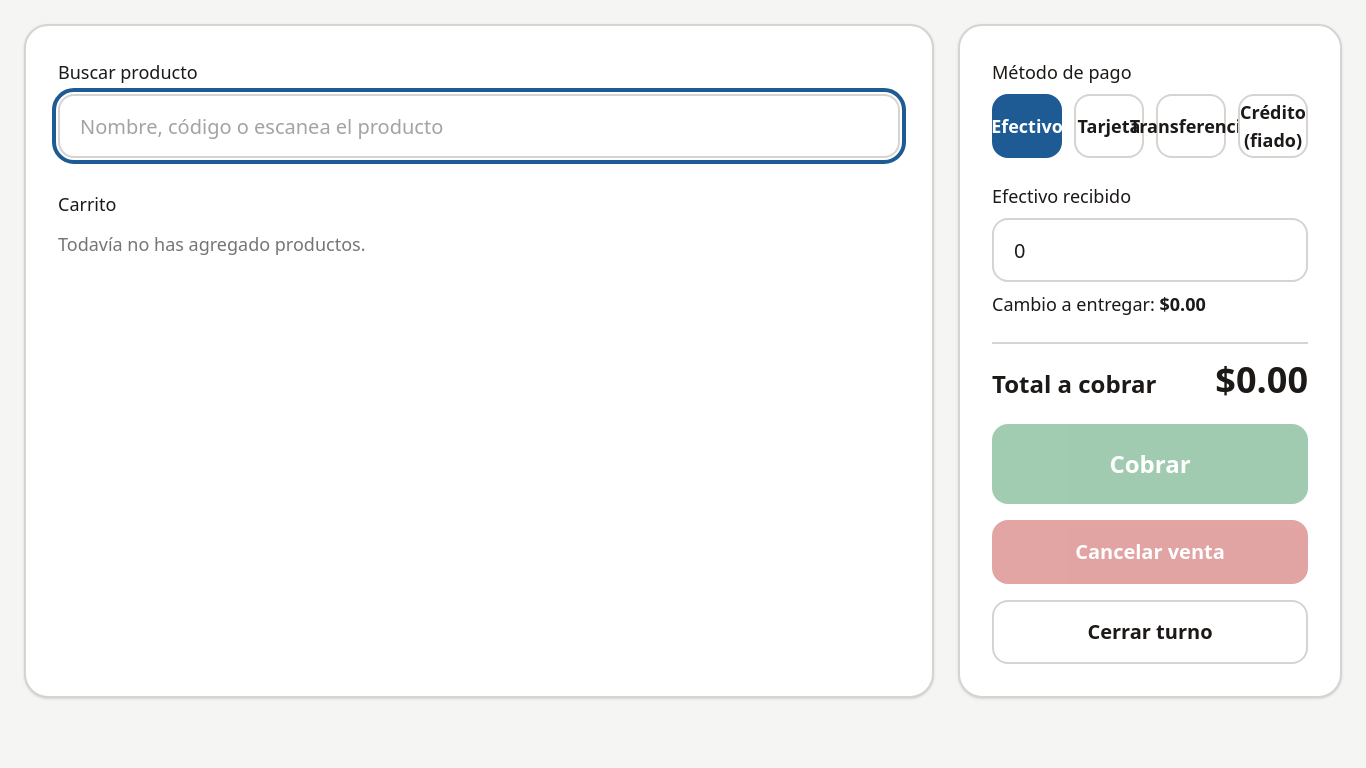
Test case: SaleScreen › calcula el cambio a entregar cuando el pago es en efectivo
In the field labelled "Buscar producto": [479, 126] box [58,94,900,158], type "refresco"
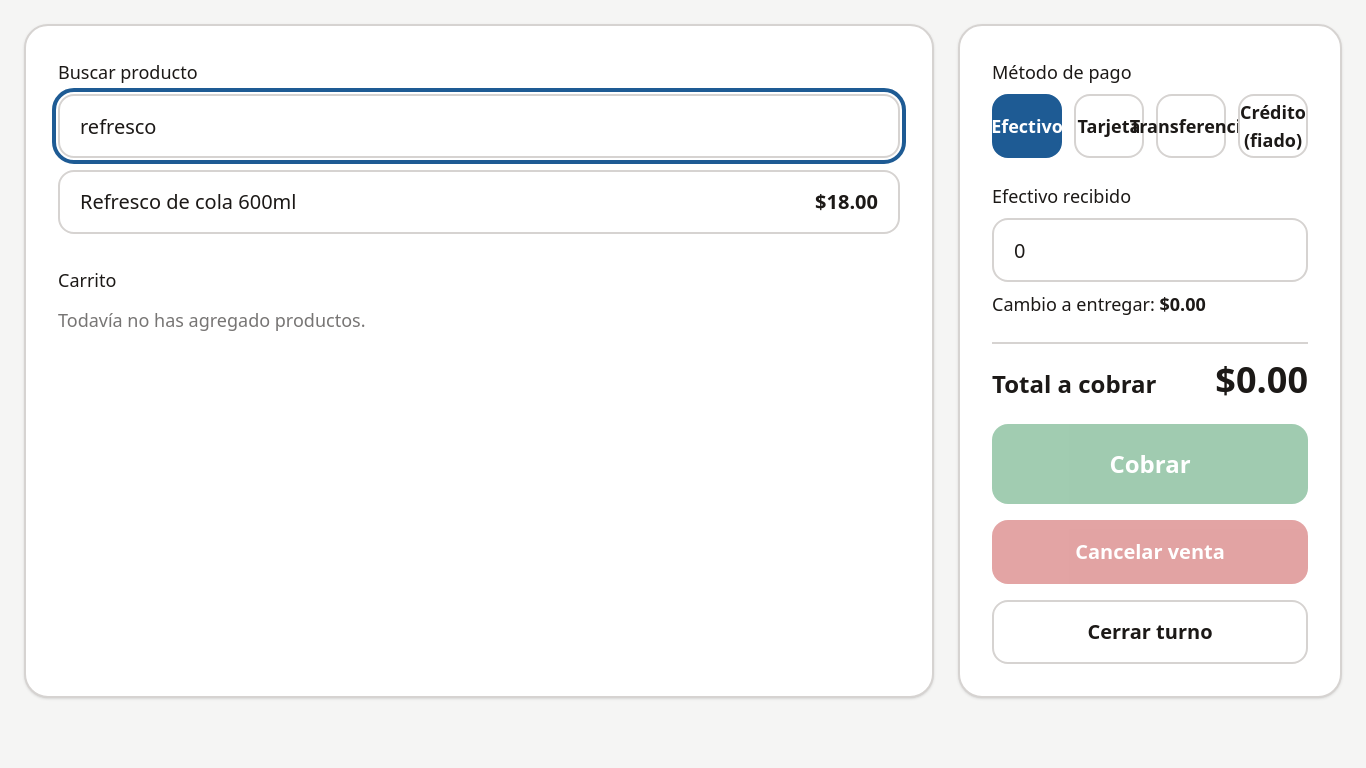
Click the button "Refresco de cola 600ml $18.00": [188, 202] box [58,170,900,234]
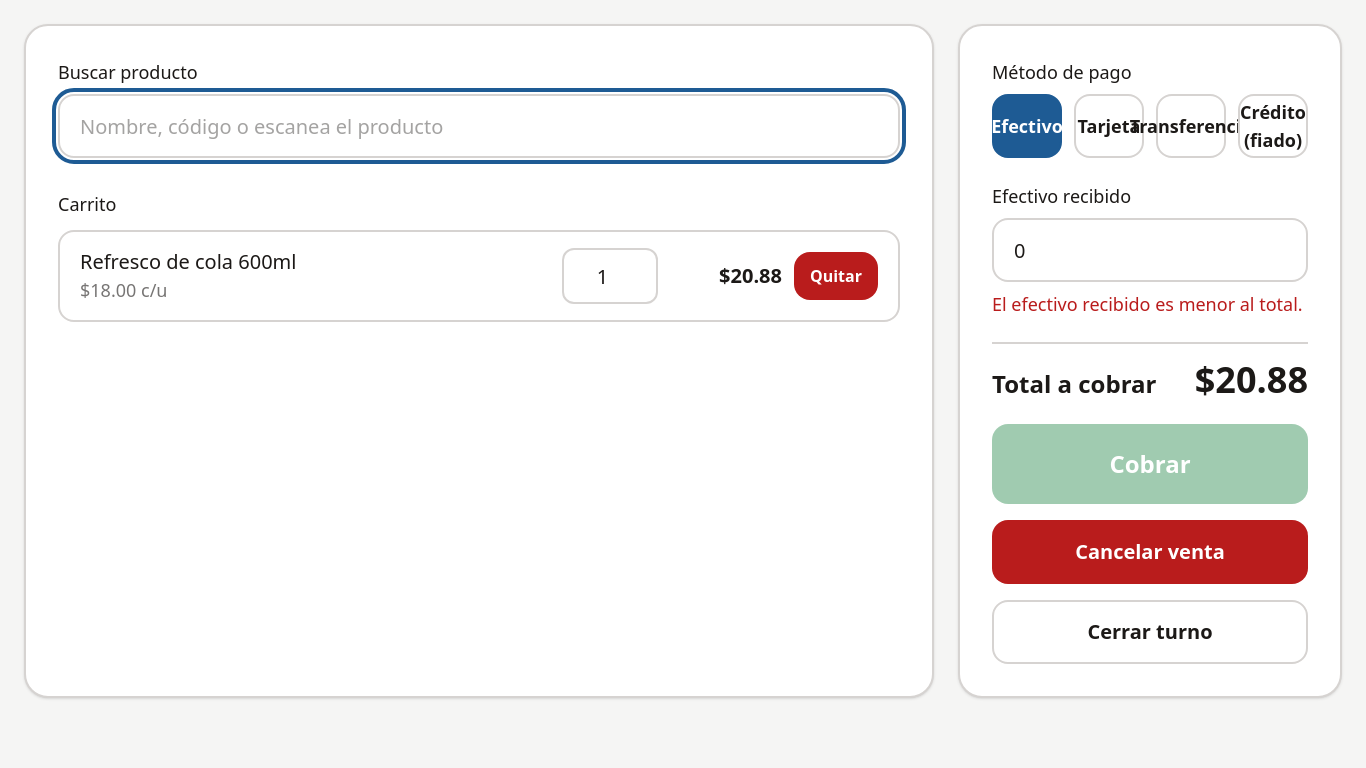
Replace the text in the number field labelled "Efectivo recibido" with "25": [1150, 250] box [992,218,1308,282]
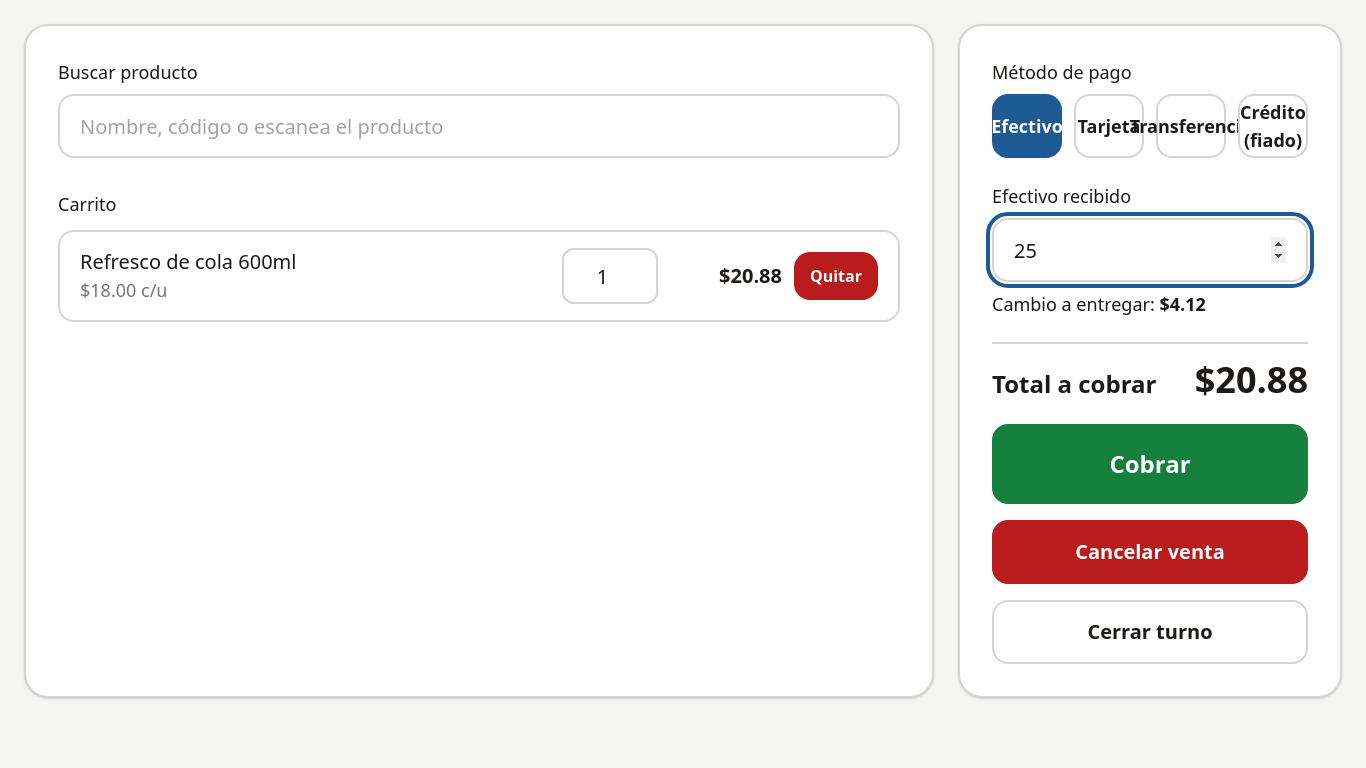
Check: the text "$4.12" is shown, box [1160,292,1206,316]
